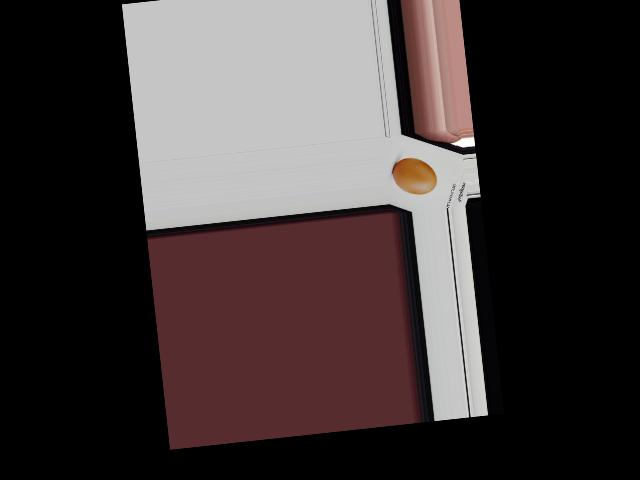egg: (391, 155, 438, 196)
